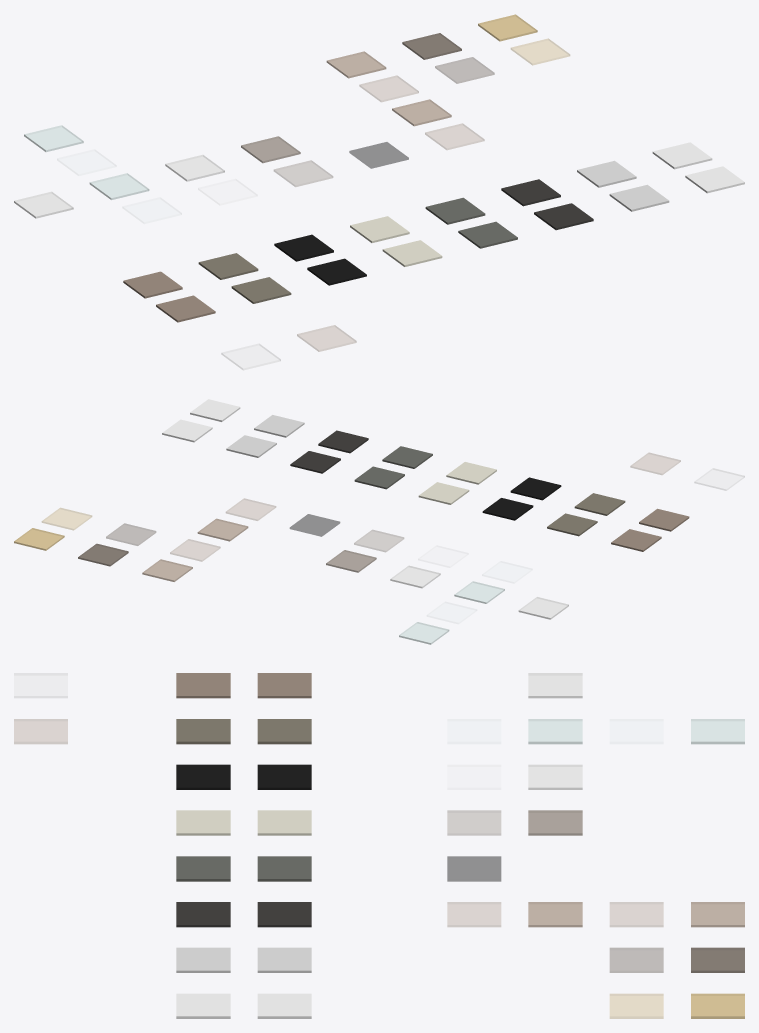
The model's file is 210728_vetri.glb.
3 views of the same model, one above another, from view 1: azimuth 30°, elevation 25°; view 2: azimuth 150°, elevation 25°; view 3: azimuth 270°, elevation 25° (orthographic). The views are drawn at different scales.
Visible parts, largest first — view 1: VET_LAC_grigiolondrasatinato, VET_LAC_beige, VET_LAC_quarzo, VET_TSL_acidato, VET_TSL_bronzoreflezacidato, VET_LAC_neveacidato, VET_LAC_polvere, VET_LAC_quarzosatinato, VET_TSL_biancolatte, VET_TSL_bronzoacidato, VET_TSL_fumèacidato, VET_TSL_goldreflezacidato (+24 smaller); view 2: VET_TSL_bronzoacidato, VET_LAC_nero, VET_TSL_goldreflezacidato, VET_LAC_beigesatinato, VET_LAC_grigioscuro, VET_LAC_neveacidato, VET_LAC_tortorasatinato, VET_TSL_biancolatte, VET_TSL_acidatoextrachiaro, VET_TSL_fumèacidato, VET_TSL_smokedreflexsatinato, VET_LAC_beige (+24 smaller); view 3: VET_TSL_acidato, VET_TSL_biancolatte, VET_TSL_bronzoacidato, VET_TSL_acidatoextrachiaro, VET_TSL_fumèacidato, VET_LAC_beige, VET_LAC_beigesatinato, VET_LAC_bianconeveextrachiaro, VET_LAC_grigiolondra, VET_LAC_grigiolondrasatinato, VET_LAC_grigioscuro, VET_LAC_nero (+24 smaller).
Boxes of the visible parts, <box> form: VET_LAC_grigiolondrasatinato: <box>425,197,485,224</box>; VET_LAC_beige: <box>382,240,442,266</box>; VET_LAC_quarzo: <box>231,277,291,303</box>; VET_TSL_acidato: <box>89,173,149,200</box>; VET_TSL_bronzoreflezacidato: <box>326,51,386,78</box>; VET_LAC_neveacidato: <box>652,142,712,169</box>; VET_LAC_polvere: <box>609,184,669,211</box>; VET_LAC_quarzosatinato: <box>198,253,258,279</box>; VET_TSL_biancolatte: <box>14,191,73,218</box>; VET_TSL_bronzoacidato: <box>392,99,451,126</box>; VET_TSL_fumèacidato: <box>241,136,300,163</box>; VET_TSL_goldreflezacidato: <box>478,14,537,41</box>; VET_TSL_bronzoacidato: <box>197,518,248,541</box>; VET_LAC_nero: <box>510,477,561,500</box>; VET_TSL_goldreflezacidato: <box>14,528,64,550</box>; VET_LAC_beigesatinato: <box>418,482,469,504</box>; VET_LAC_grigioscuro: <box>318,430,368,453</box>; VET_LAC_neveacidato: <box>162,419,212,442</box>; VET_LAC_tortorasatinato: <box>611,529,661,551</box>; VET_TSL_biancolatte: <box>518,597,568,619</box>; VET_TSL_acidatoextrachiaro: <box>390,565,440,588</box>; VET_TSL_fumèacidato: <box>326,550,376,572</box>; VET_TSL_smokedreflexsatinato: <box>78,543,128,566</box>; VET_LAC_beige: <box>446,462,496,484</box>; VET_TSL_acidato: <box>528,719,582,744</box>; VET_TSL_biancolatte: <box>528,673,582,698</box>; VET_TSL_bronzoacidato: <box>528,902,582,927</box>; VET_TSL_acidatoextrachiaro: <box>528,764,582,789</box>; VET_TSL_fumèacidato: <box>528,810,582,835</box>; VET_LAC_beige: <box>176,810,230,835</box>; VET_LAC_beigesatinato: <box>257,810,311,835</box>; VET_LAC_bianconeveextrachiaro: <box>176,993,230,1018</box>; VET_LAC_grigiolondra: <box>176,856,230,881</box>; VET_LAC_grigiolondrasatinato: <box>257,856,311,881</box>; VET_LAC_grigioscuro: <box>176,902,230,927</box>; VET_LAC_nero: <box>176,764,230,789</box>.
Bounding box in the file's own units: 30 × 0.1 × 27.
